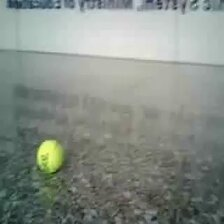tennis: (36, 139, 66, 175)
